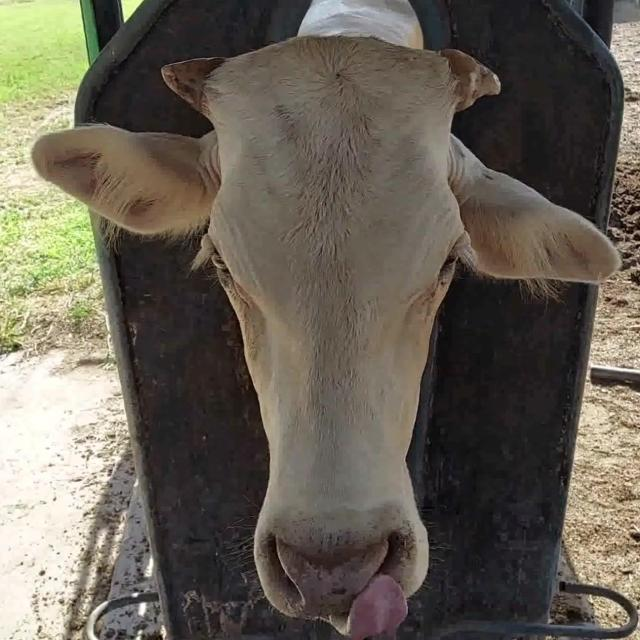cowFace: (205, 34, 464, 622)
